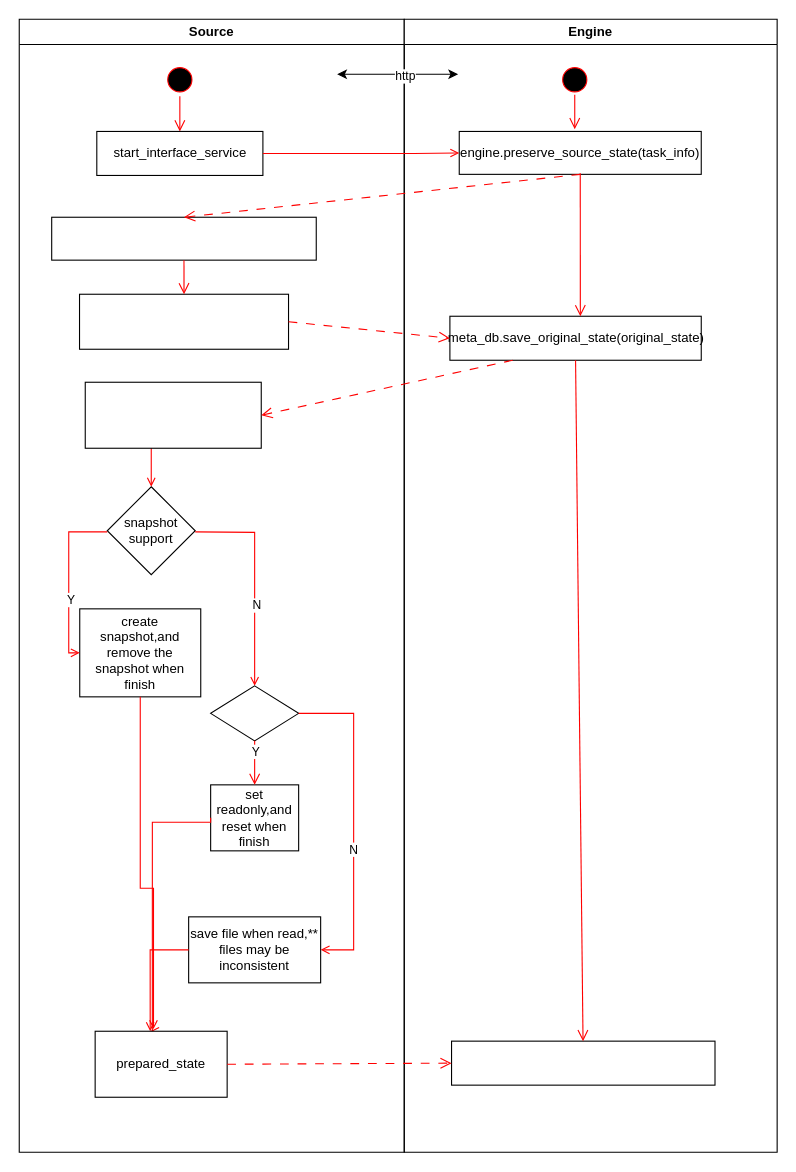
Some shapes in this 796 by 1172 pixel diagram are drawn without their labels. Each missing label, with the centre of its shape:
meta_db.save_prepared_state(preserved_state): point (582, 1062)
original_state = source.read_data_source_original_stat(): point (183, 238)
preserved_state = preserve_data_source(): point (172, 414)
read source state for recover when backup complete: point (183, 321)
readonly: point (254, 713)
